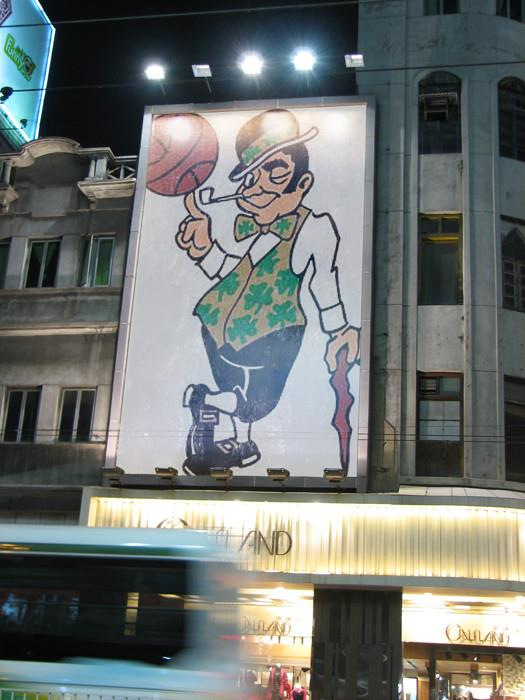Boston_Celtics: (123, 96, 359, 467)
